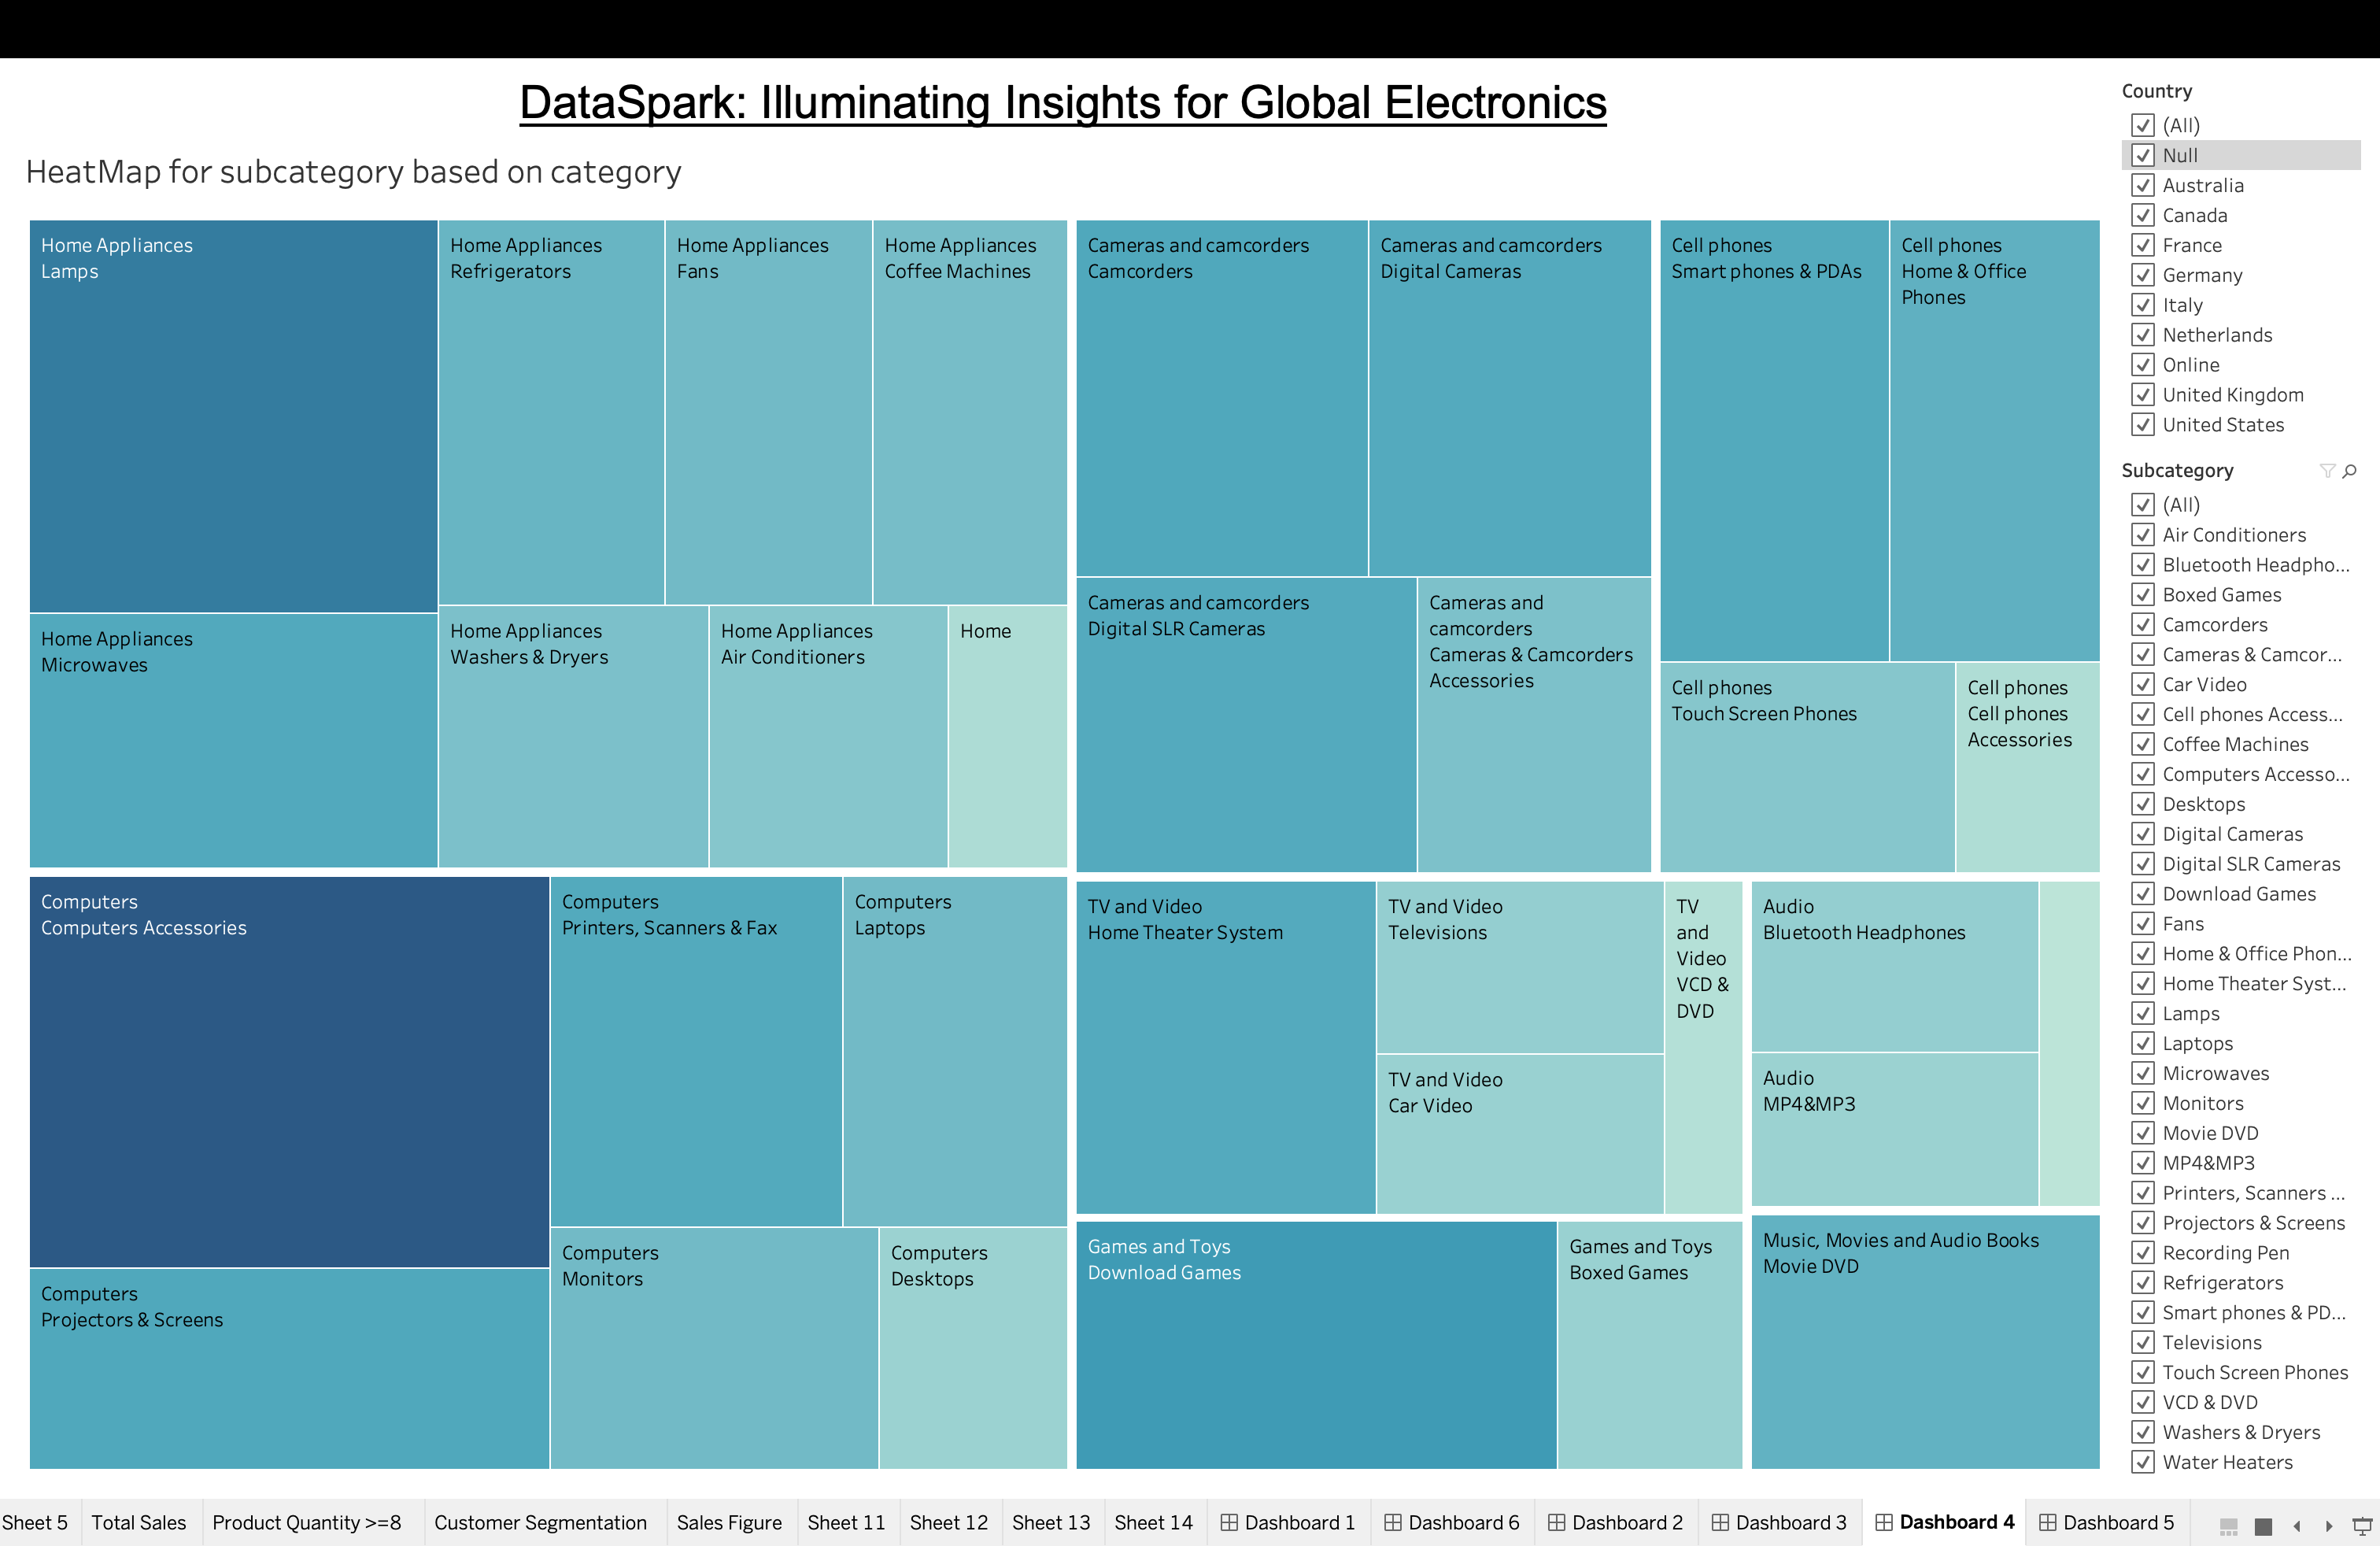

The page's visual inventory and layout, read from the dashboard file:
{"tool":"tableau","page":{"name":"Dashboard 4","canvas":[1000,1000],"units":"permille","ordinal":3},"visuals":[{"type":"title","box":[5.3,8.7,883.6,44.8]},{"type":"filter","title":"Sheet 5","param":"[federated.02uo9zm0smolzs15m8jjv1oq37fc].[none:Country (Sheet14):nk]","box":[888.9,8.7,105.8,263.4]},{"type":"worksheet","title":"Sheet 5","mark":"Automatic","box":[5.3,53.6,883.6,937.7]},{"type":"filter","title":"Sheet 5","param":"[federated.02uo9zm0smolzs15m8jjv1oq37fc].[none:Subcategory:nk]","box":[888.9,272.1,105.8,719.1]}]}

Visuals, with their boxes on the dashboard's canvas, which has no fixed pixel size, in thousandths of its width and height (x1, y1, x2, y2). These are canvas units, not pixel positions in the 2380x1546 screenshot, which may show the page scaled, cropped or inside an application window:
title: bbox=[5, 9, 889, 54]
"Sheet 5" filter: bbox=[889, 9, 995, 272]
"Sheet 5" worksheet: bbox=[5, 54, 889, 991]
"Sheet 5" filter: bbox=[889, 272, 995, 991]
